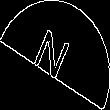N_SW: (32, 23, 78, 87)
